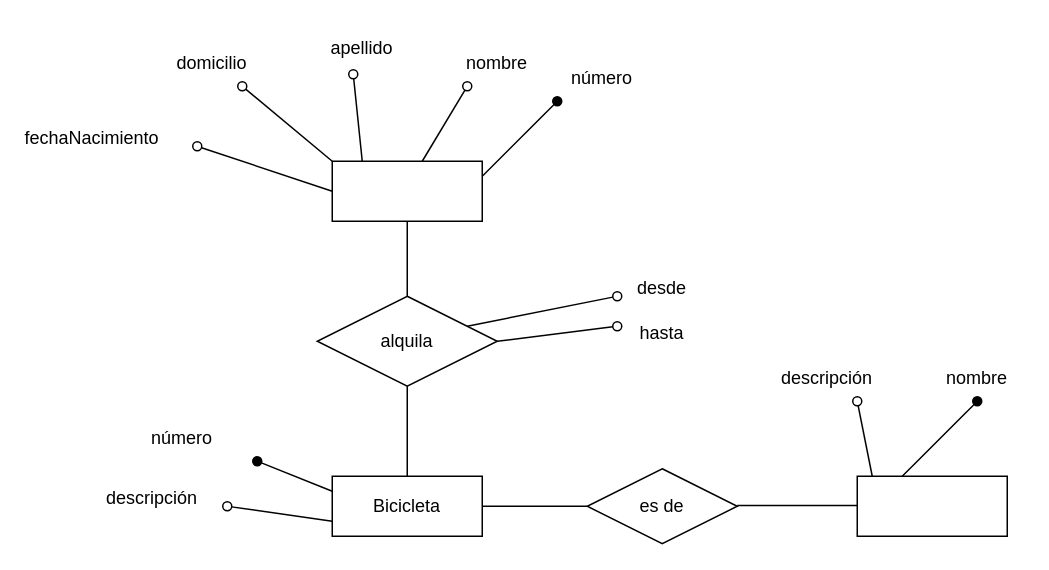
The diagram is 1049 pixels wide and 570 high, and some of its shapes have lost their labels. The shapes that lost their labels are listed below. From the top down, each one's centre as x and y in pixels, then its label:
At (x=406, y=190): "Cliente".
At (x=931, y=505): "Tipo Bicicleta".
